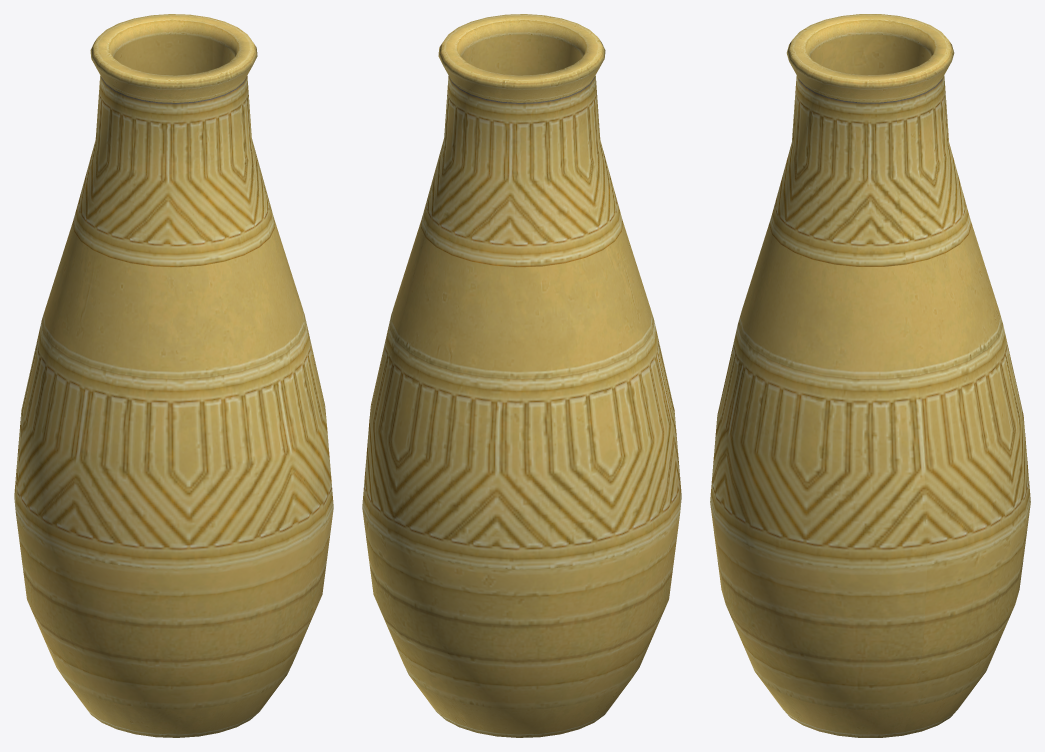
File: relics_04.glb
3 views of the same model, side by side, from view 1: azimuth 30°, elevation 25°; view 2: azimuth 150°, elevation 25°; view 3: azimuth 270°, elevation 25° (orthographic).
Parts seen in each view (by area): view 1: Vase_02; view 2: Vase_02; view 3: Vase_02.
Part boxes in pixels (x1,y1,x2,y2): Vase_02: (14, 14, 333, 737); Vase_02: (362, 14, 681, 737); Vase_02: (710, 14, 1030, 737).
Bounding box in the file's own units: 0.3311 × 0.7486 × 0.3336.
1 material, 1 textured.
